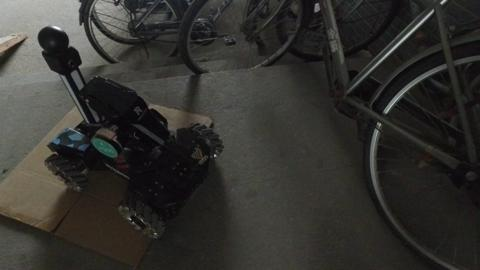chariot: (32, 24, 225, 239)
